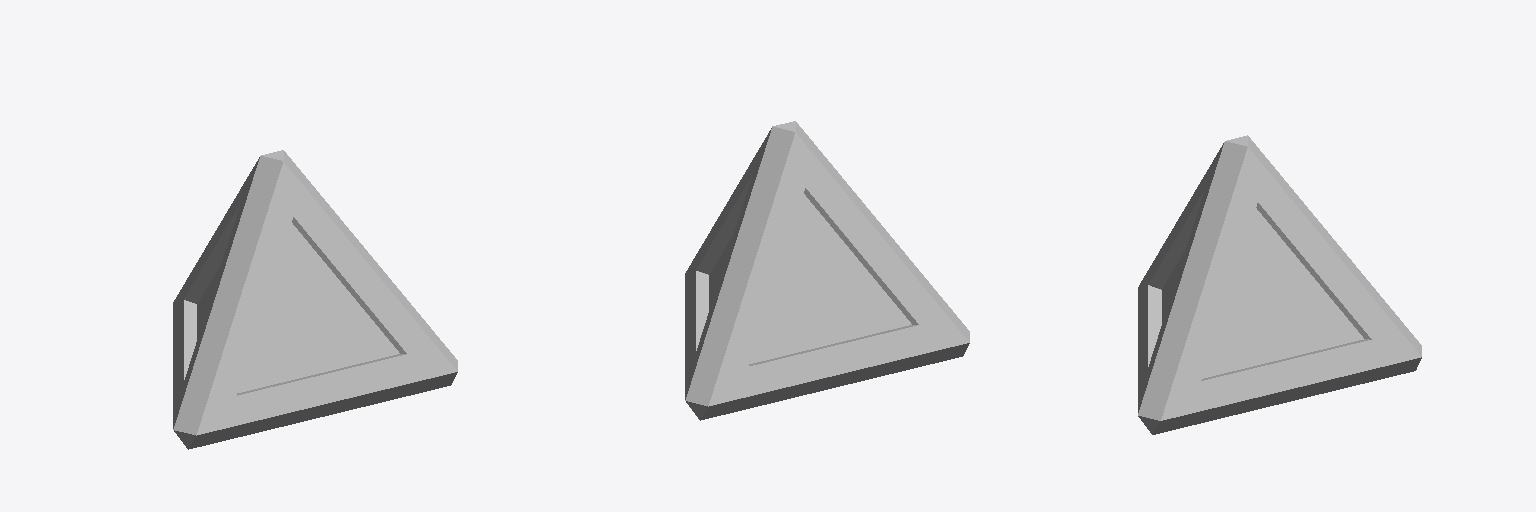
The model's file is pyramidic_decimator.obj.
3 views of the same model, side by side, from view 1: azimuth 30°, elevation 25°; view 2: azimuth 150°, elevation 25°; view 3: azimuth 270°, elevation 25° (orthographic).
Visible parts, largest first — view 1: Cone; view 2: Cone; view 3: Cone.
Boxes of the visible parts, box(x1,y1,x2,y2) form: Cone: box(173, 150, 457, 449); Cone: box(685, 121, 969, 420); Cone: box(1138, 135, 1421, 434).
Bounding box in the file's own units: 1.11 × 0.8607 × 0.9652.